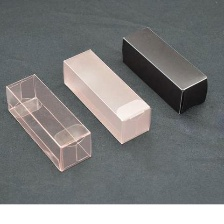plastic_box: (0, 68, 97, 177), (56, 43, 156, 148), (116, 21, 213, 119)
